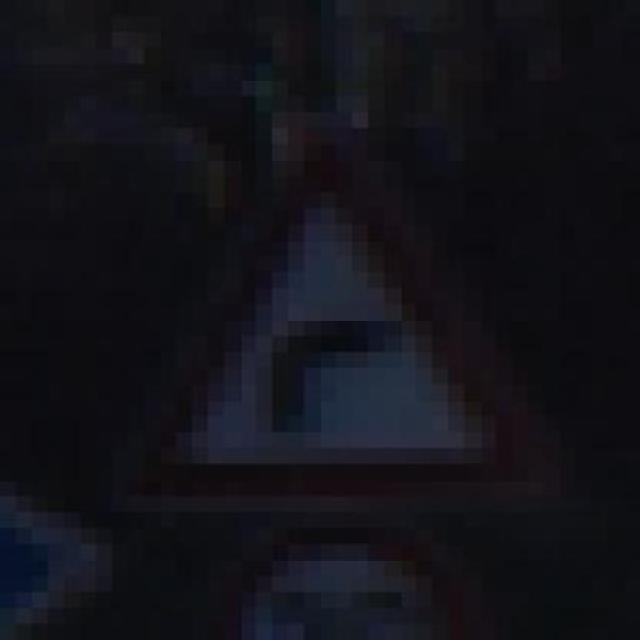Dangerous Rright Curve Ahead: (112, 95, 560, 560)
